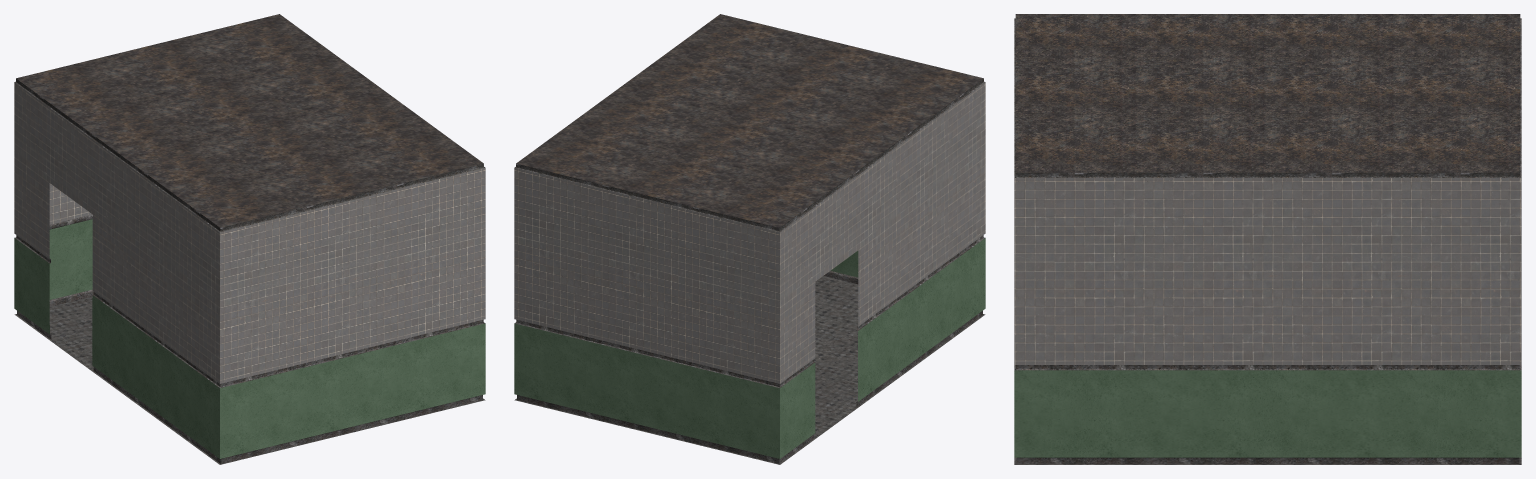
File: Room_01.FBX
3 renders of one model, left to right at view 1: azimuth 30°, elevation 25°; view 2: azimuth 150°, elevation 25°; view 3: azimuth 270°, elevation 25°, orthographic. The views are drawn at different scales.
Visible parts, largest first — view 1: Room_01; view 2: Room_01; view 3: Room_01.
Part boxes in pixels (x1=…): Room_01: x1=14, y1=14, x2=485, y2=464; Room_01: x1=514, y1=14, x2=985, y2=464; Room_01: x1=1014, y1=14, x2=1521, y2=464.
Size of the model in its own units: 116 by 98.43 by 155.
